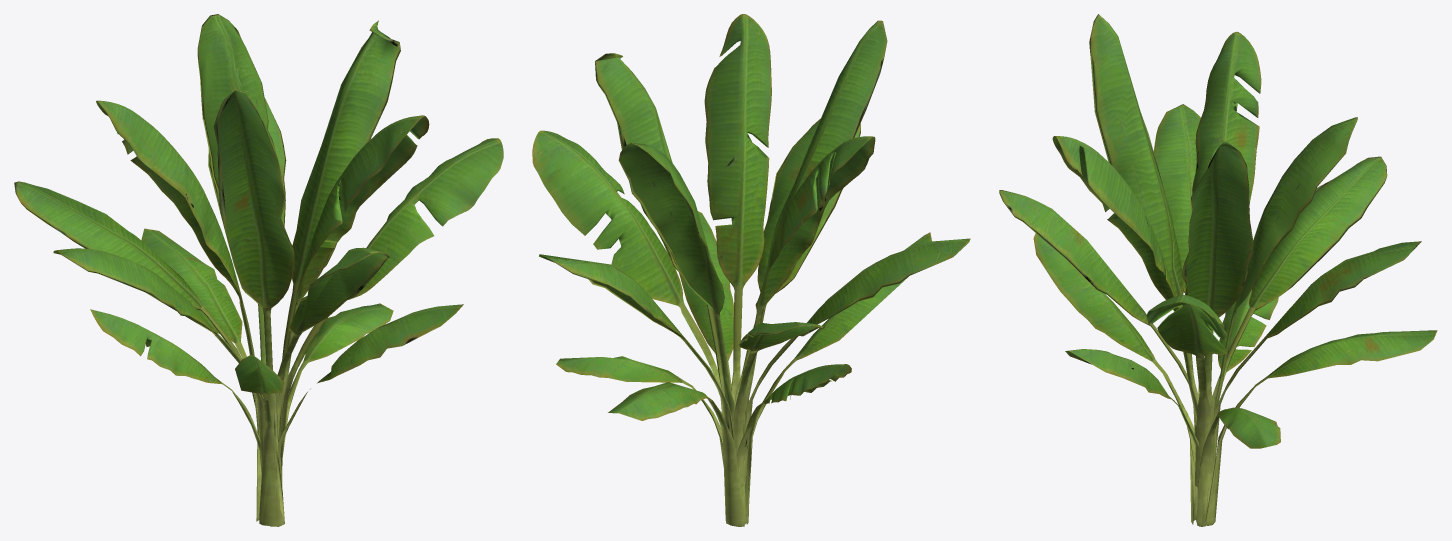
Rendered from chuoi.glb.
3 views of the same model, side by side, from view 1: azimuth 30°, elevation 25°; view 2: azimuth 150°, elevation 25°; view 3: azimuth 270°, elevation 25° (orthographic). The views are drawn at different scales.
Parts seen in each view (by area): view 1: Plane_0; view 2: Plane_0; view 3: Plane_0.
Part boxes in pixels (x1=…): Plane_0: x1=14, y1=14, x2=503, y2=526; Plane_0: x1=532, y1=14, x2=970, y2=526; Plane_0: x1=999, y1=14, x2=1437, y2=526.
Size of the model in its own units: 0.9277 by 0.9979 by 0.8471.
1 material, 1 textured.
